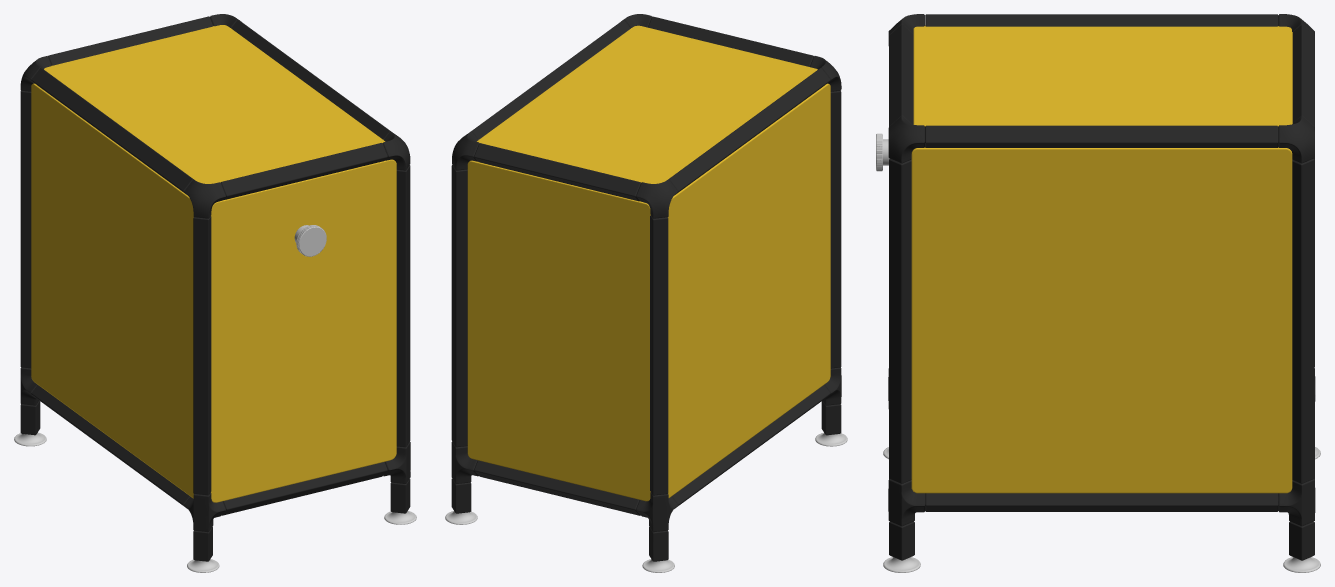
3 views of the same model, side by side, from view 1: azimuth 30°, elevation 25°; view 2: azimuth 150°, elevation 25°; view 3: azimuth 270°, elevation 25° (orthographic). The views are drawn at different scales.
Parts seen in each view (by area): view 1: 229x374x374; view 2: 229x374x374; view 3: 229x374x374.
Part boxes in pixels (x1=…): 229x374x374: x1=14, y1=14, x2=416, y2=572; 229x374x374: x1=445, y1=14, x2=847, y2=572; 229x374x374: x1=876, y1=14, x2=1320, y2=572.
Size of the model in its own units: 0.3189 by 0.5133 by 0.4707.
